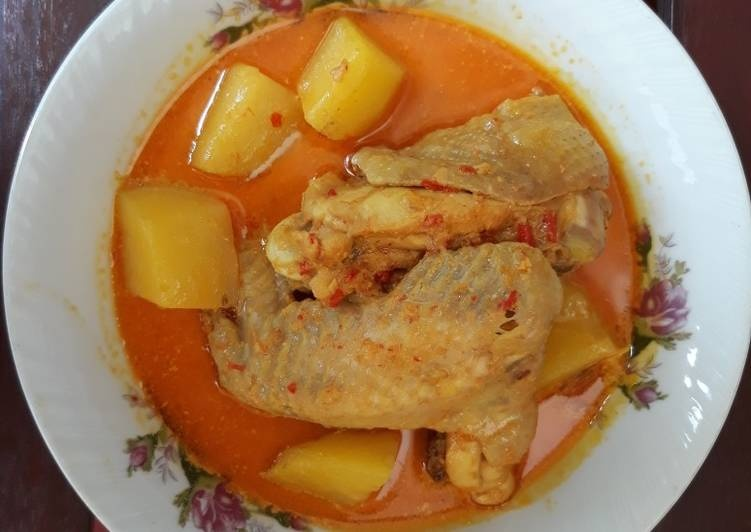gulai_ayam: (94, 4, 680, 521)
